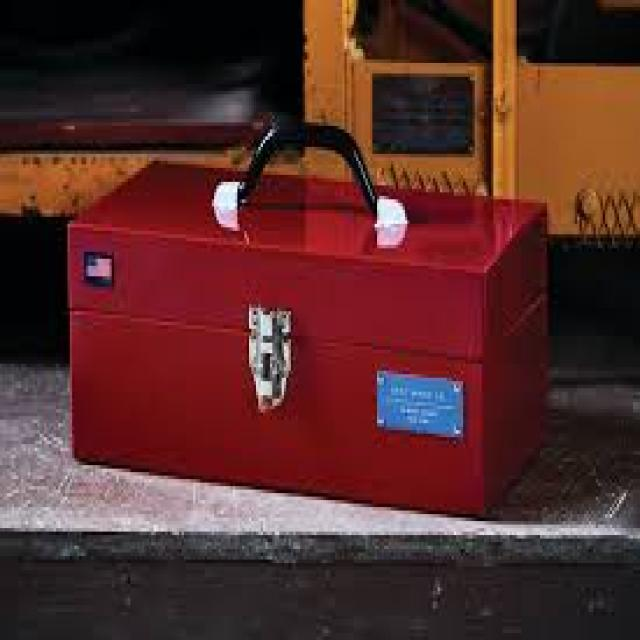tool_box: (69, 163, 546, 512)
